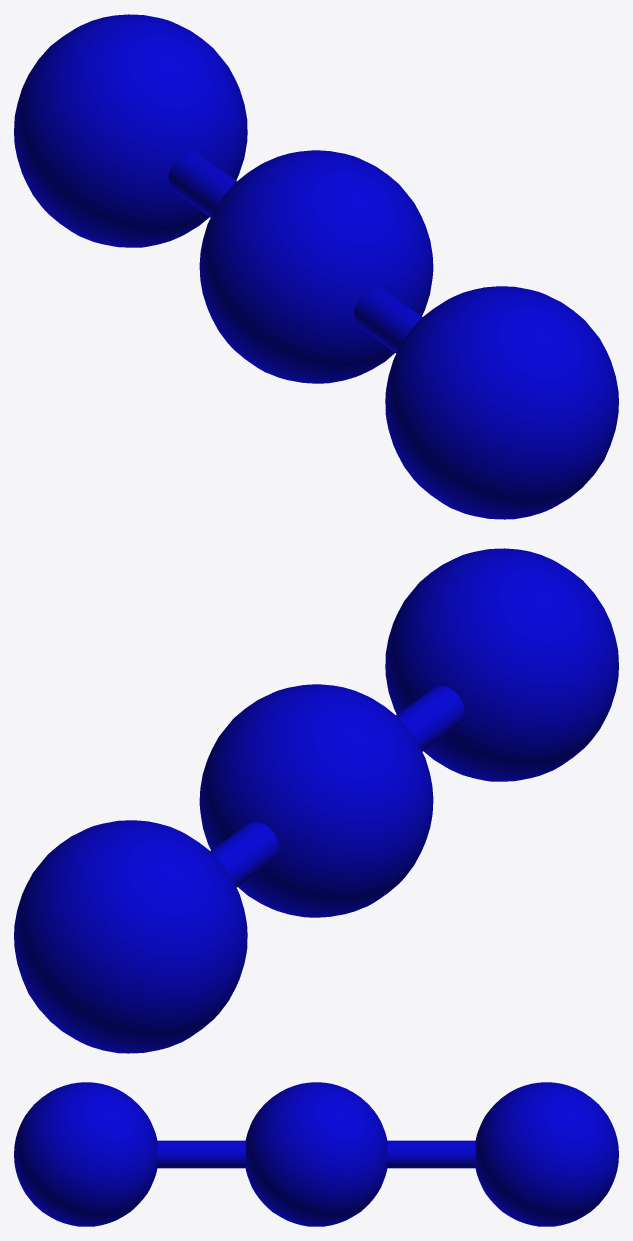
3 renders of one model, top to bottom at view 1: azimuth 30°, elevation 25°; view 2: azimuth 150°, elevation 25°; view 3: azimuth 270°, elevation 25°, orthographic. The views are drawn at different scales.
Parts seen in each view (by area): view 1: N3; view 2: N3; view 3: N3.
Boxes of the visible parts, x1,y1,x2,y2 form: N3: (14,14,618,519); N3: (14,548,618,1053); N3: (14,1082,618,1226).
Size of the model in its own units: 0.46 by 0.46 by 1.92.
